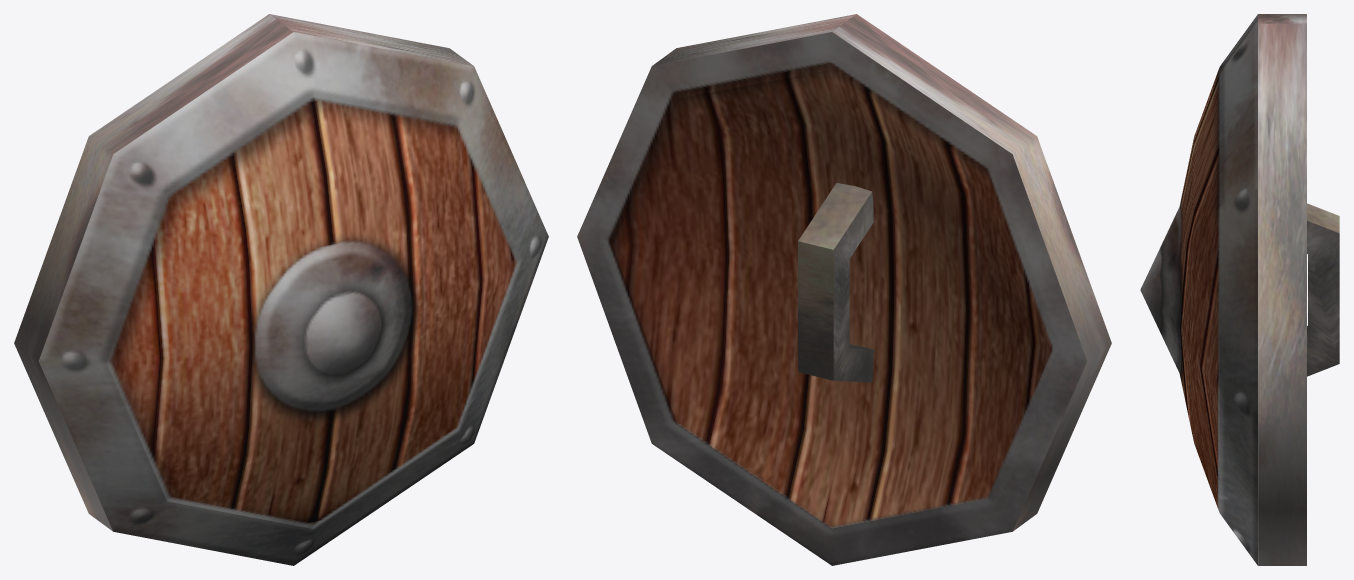
File: small_shield.fbx
3 renders of one model, left to right at view 1: azimuth 30°, elevation 25°; view 2: azimuth 150°, elevation 25°; view 3: azimuth 270°, elevation 25°, orthographic.
Parts seen in each view (by area): view 1: small_shield; view 2: small_shield; view 3: small_shield.
Boxes of the visible parts, box(x1,y1,x2,y2) form: small_shield: box(14, 14, 548, 565); small_shield: box(577, 14, 1111, 565); small_shield: box(1140, 14, 1339, 565).
Bounding box in the file's own units: 40 × 40 × 13.58.
